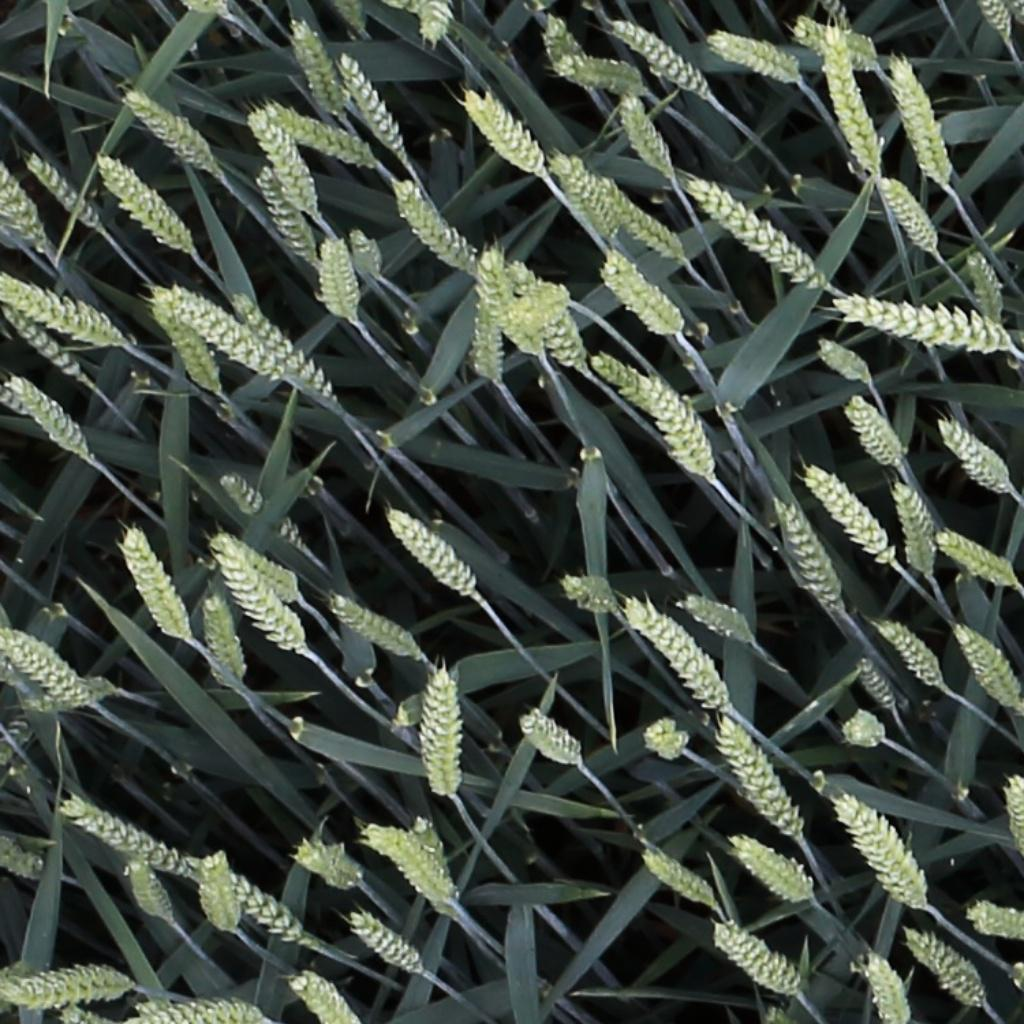0-0: (685, 174, 824, 289), (621, 598, 729, 716), (228, 292, 334, 404), (206, 536, 304, 655), (831, 791, 927, 912), (715, 714, 804, 842), (0, 672, 118, 768), (88, 150, 196, 254), (816, 25, 882, 178), (800, 464, 898, 565), (835, 299, 1011, 355), (60, 802, 188, 877), (167, 289, 279, 374), (329, 45, 409, 162), (120, 88, 221, 179), (770, 494, 845, 615), (1, 278, 125, 351), (118, 524, 192, 646), (461, 88, 547, 189), (888, 54, 951, 191), (389, 176, 476, 275), (383, 506, 475, 598), (147, 288, 222, 400), (610, 15, 711, 98), (473, 249, 542, 365), (244, 105, 316, 215), (5, 371, 92, 462), (589, 173, 684, 256), (639, 376, 715, 477), (596, 251, 685, 336), (249, 156, 315, 265), (260, 102, 372, 165), (222, 872, 311, 951), (413, 662, 465, 796), (2, 300, 86, 382), (1, 629, 88, 707), (367, 826, 450, 907), (950, 622, 1024, 712), (548, 151, 622, 241), (21, 148, 103, 229), (712, 922, 800, 996), (903, 929, 985, 1008), (283, 15, 344, 120), (210, 533, 300, 604), (614, 84, 675, 182), (875, 169, 943, 256), (935, 416, 1010, 494), (327, 595, 417, 659), (0, 152, 53, 255), (875, 617, 946, 692), (2, 965, 134, 1005), (197, 592, 253, 686), (516, 296, 587, 370), (346, 910, 423, 977), (731, 839, 809, 905), (707, 31, 804, 83), (888, 477, 935, 580), (842, 393, 905, 469), (318, 232, 365, 328), (936, 532, 1017, 587), (550, 53, 651, 97), (638, 853, 715, 910), (472, 247, 505, 380), (126, 997, 278, 1024), (121, 856, 174, 932), (791, 21, 877, 66), (197, 847, 236, 942), (962, 240, 1004, 327), (679, 595, 752, 644), (861, 950, 909, 1022), (591, 347, 646, 409), (517, 712, 582, 764), (850, 652, 901, 718), (286, 972, 349, 1022), (290, 845, 353, 891), (507, 280, 572, 324), (815, 337, 873, 383), (214, 469, 266, 520), (341, 219, 382, 282), (966, 901, 1024, 939), (558, 576, 615, 613), (641, 721, 689, 762), (1004, 774, 1024, 871), (330, 0, 371, 43), (977, 0, 1015, 45), (0, 842, 43, 879), (417, 1, 449, 47), (841, 715, 884, 745), (56, 1004, 104, 1024)
